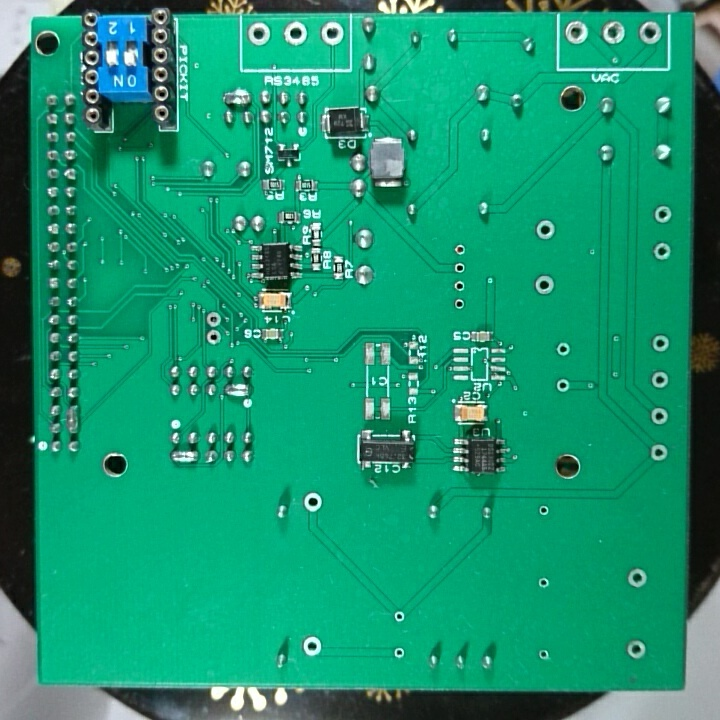F: (598, 18, 628, 47), (318, 20, 347, 49), (245, 20, 274, 49), (281, 19, 309, 49), (624, 564, 650, 592), (637, 18, 662, 47), (564, 18, 589, 46), (300, 633, 325, 660), (624, 636, 649, 663), (533, 217, 558, 242), (301, 489, 324, 515), (648, 403, 671, 429), (532, 273, 557, 296), (647, 369, 671, 392), (647, 441, 670, 463), (650, 333, 672, 355), (651, 203, 673, 225), (651, 241, 671, 264), (554, 338, 574, 360), (554, 375, 573, 397), (535, 574, 554, 595), (204, 308, 223, 329), (451, 258, 470, 278), (205, 327, 224, 346), (451, 294, 469, 314), (389, 608, 409, 626), (391, 643, 408, 663), (451, 242, 469, 259), (451, 276, 469, 293), (536, 501, 551, 521), (536, 646, 552, 664)
P: (62, 397, 83, 438), (222, 381, 257, 403), (169, 446, 201, 469), (221, 87, 253, 108)
